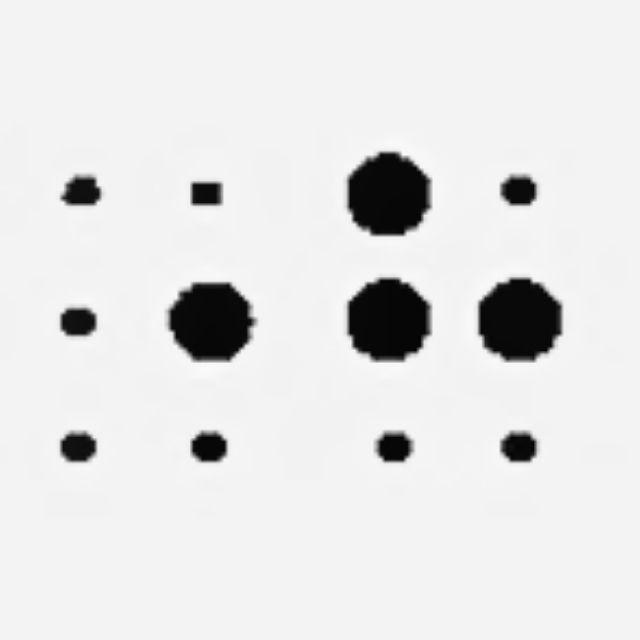dot_5: (40, 147, 259, 490)
hapon: (344, 151, 563, 494)
